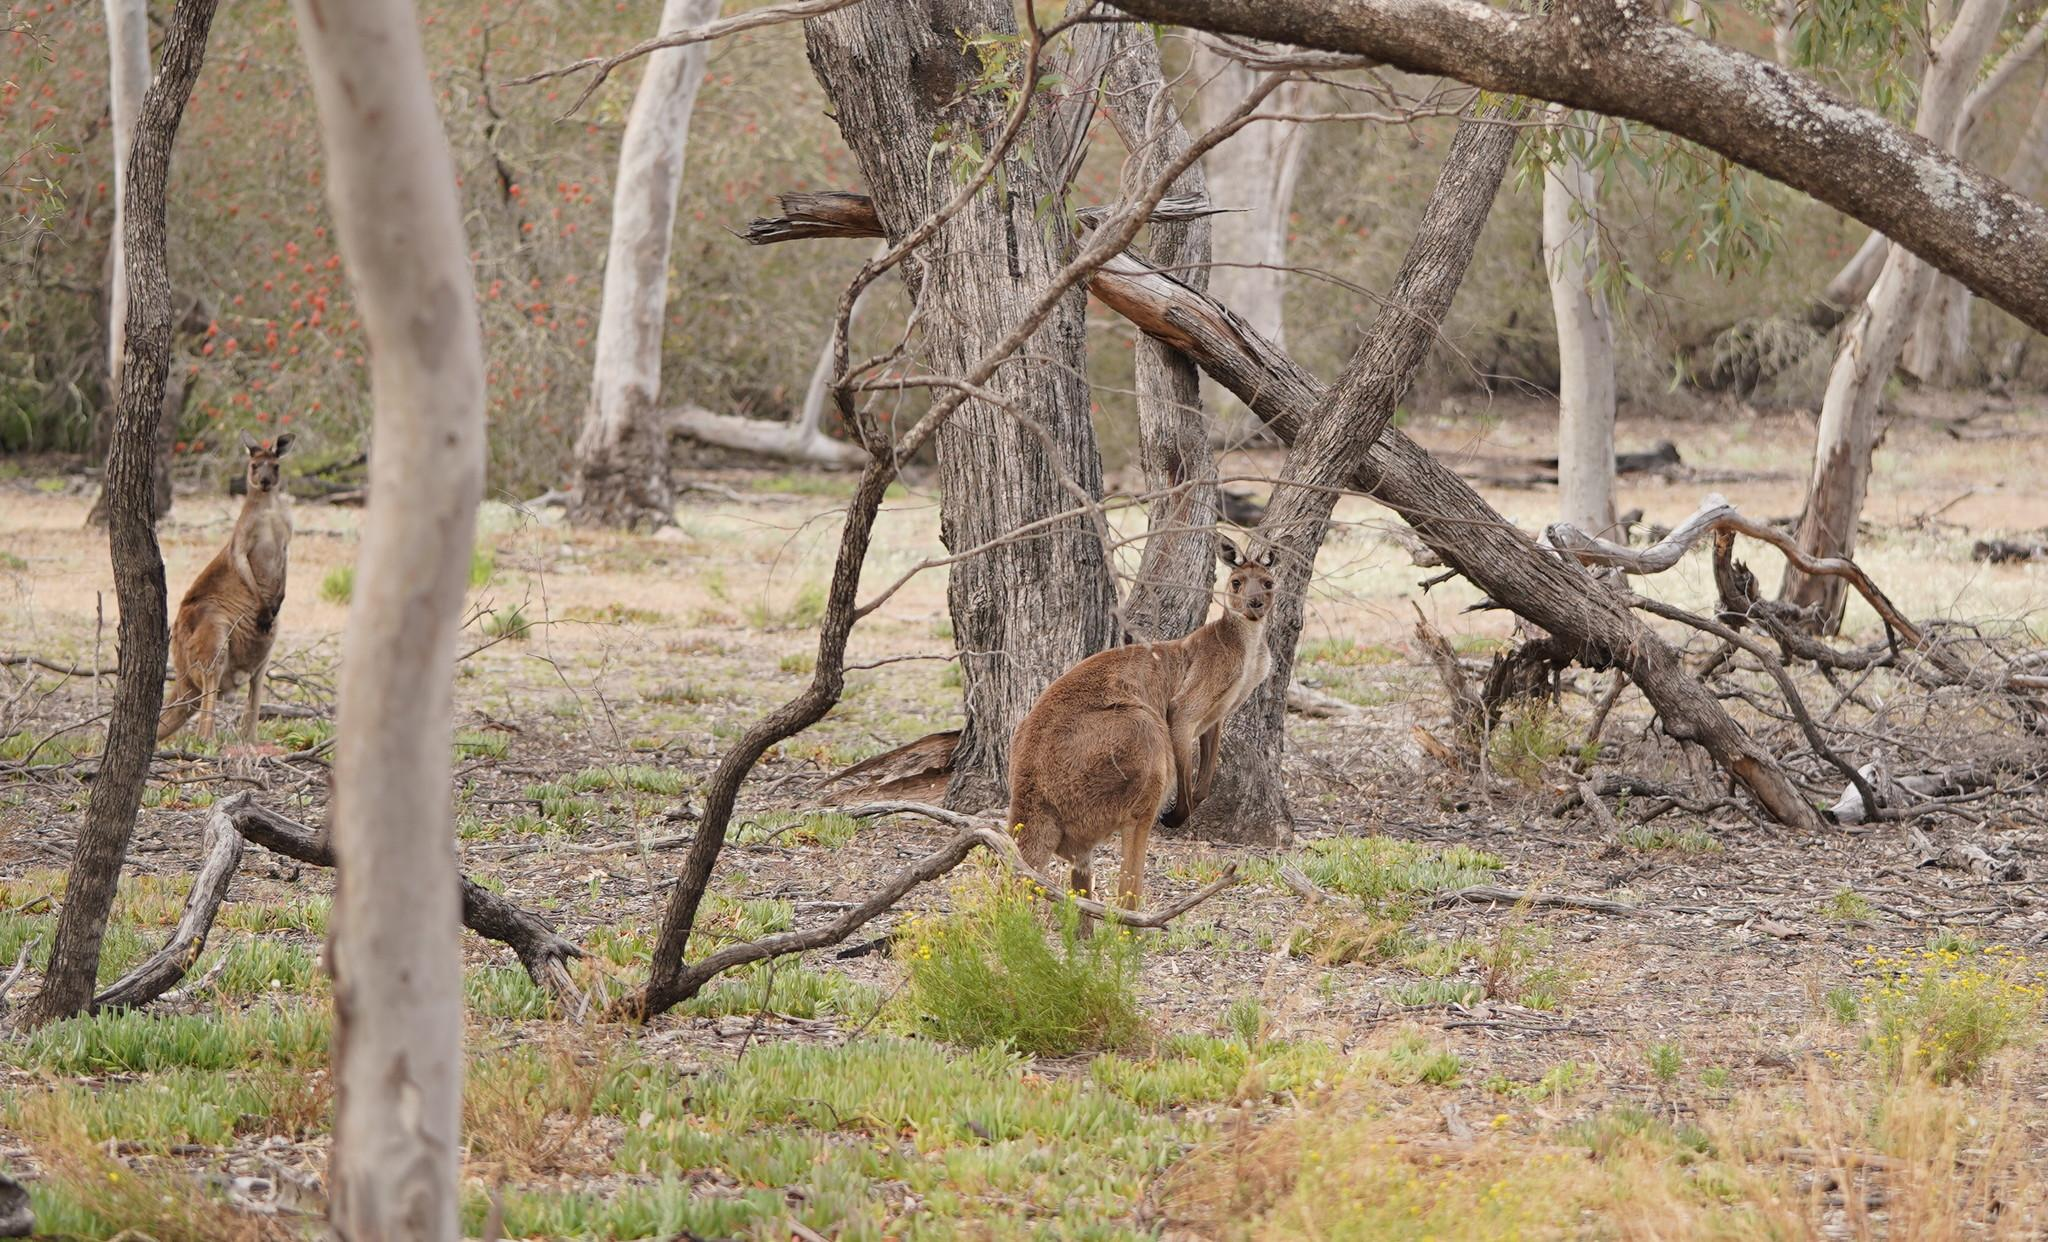Western grey kangaroo: (835, 528, 1302, 964), (157, 430, 301, 752)
